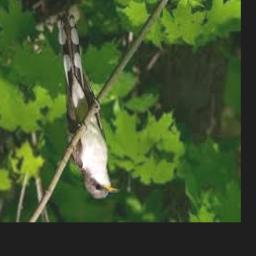Cuckoo: (56, 14, 118, 199)
